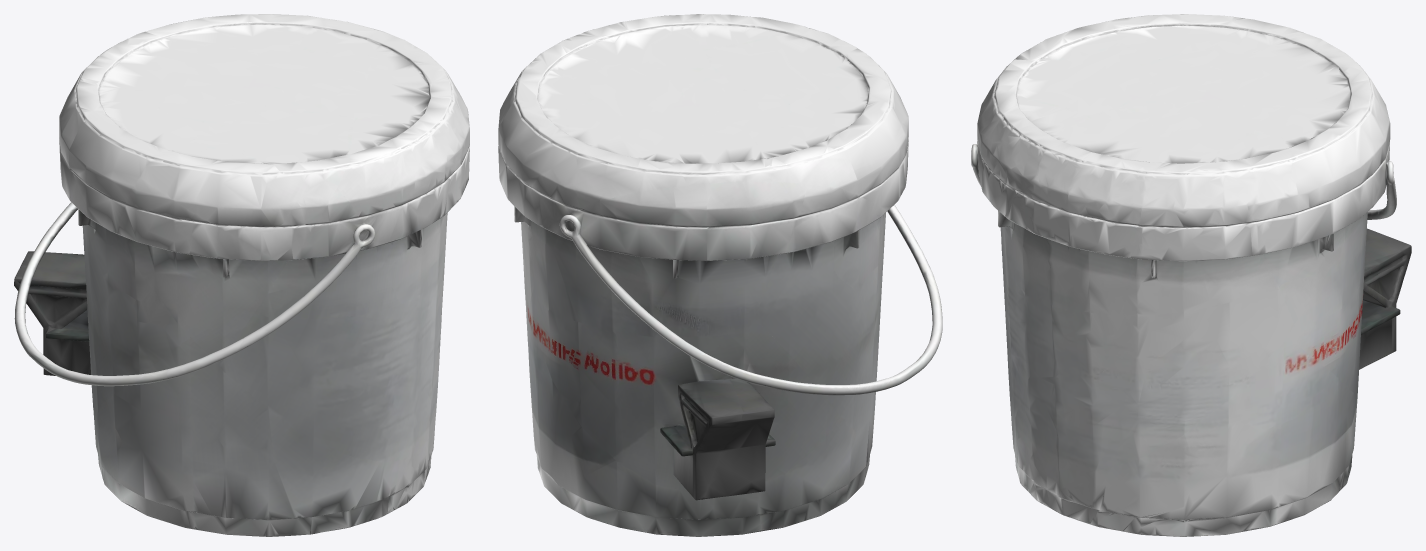
Rendered from yhcolorwall-5100.glb.
3 views of the same model, side by side, from view 1: azimuth 30°, elevation 25°; view 2: azimuth 150°, elevation 25°; view 3: azimuth 270°, elevation 25° (orthographic).
Visible parts, largest first — view 1: tripo_node_4734c7fc-9358-4b25-82c7-63d429abc64e; view 2: tripo_node_4734c7fc-9358-4b25-82c7-63d429abc64e; view 3: tripo_node_4734c7fc-9358-4b25-82c7-63d429abc64e.
Boxes of the visible parts, <box> form: tripo_node_4734c7fc-9358-4b25-82c7-63d429abc64e: <box>14,14,469,536</box>; tripo_node_4734c7fc-9358-4b25-82c7-63d429abc64e: <box>498,14,942,536</box>; tripo_node_4734c7fc-9358-4b25-82c7-63d429abc64e: <box>971,14,1411,536</box>.
Bounding box in the file's own units: 0.9997 × 0.9007 × 0.9611.
1 material, 1 textured.
